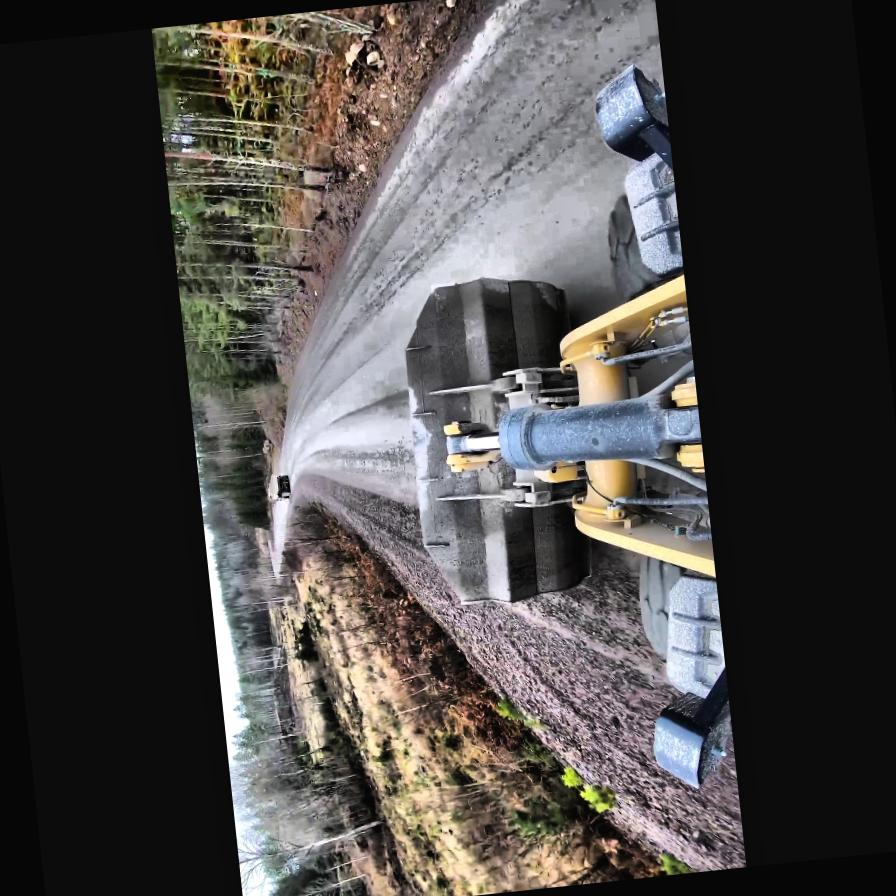anchor: (440, 419, 500, 474)
